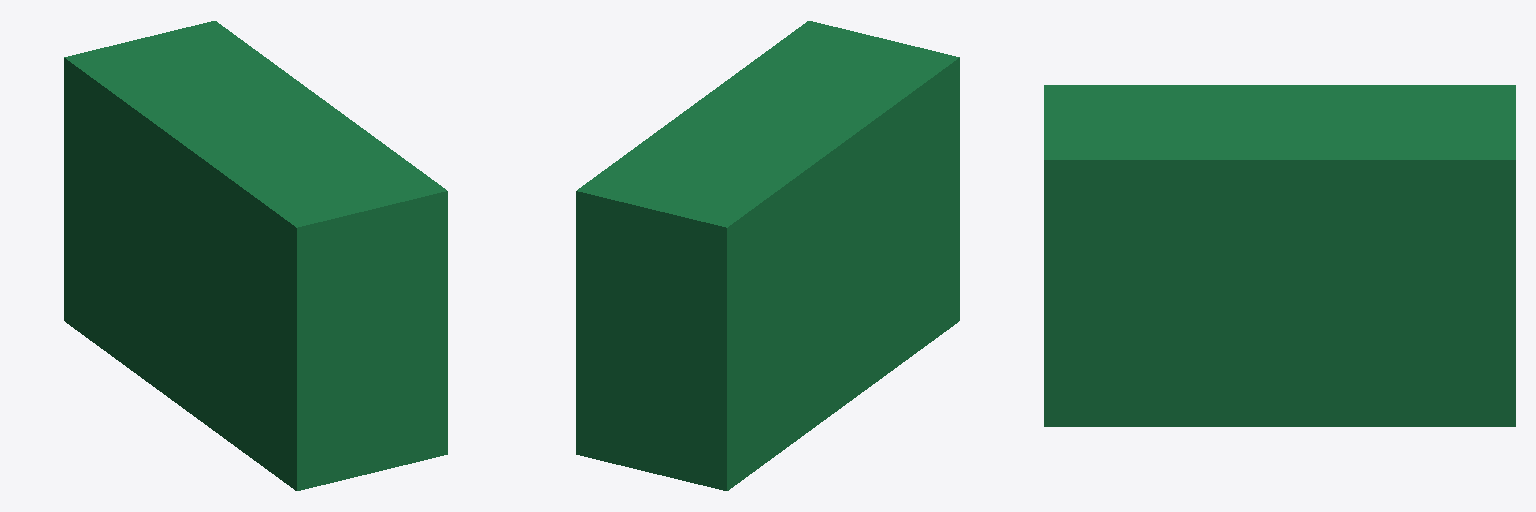
robot.urdf — myfirst:
<?xml version="1.0"?>
 <robot name="myfirst">
   <material name="light_green">
     <color rgba="0 1 0.498 1"/>
   </material>
   <material name="sea_green">
     <color rgba="0.18039 0.545098 0.341176 1"/>
   </material>
   <link name="right_leg">
     <visual>
       <geometry>
         <box size="0.16 0.10 0.06"/>
       </geometry>
       <material name="sea_green"/>
       <origin xyz="0 0 0.1067185" rpy="1.5707963 0 1.5707963"/>
     </visual>
     <inertial>
       <mass value="0"/>
       <inertia ixx="1.0" ixy="0.0" ixz="0.0" iyy="1.0" iyz="0.0" izz="1.0"/>
     </inertial>
   </link>
 </robot>

--- Render facts (derived) ---
Views: 3 orthographic renders of the robot side by side, from view 1: azimuth 30°, elevation 25°; view 2: azimuth 150°, elevation 25°; view 3: azimuth 270°, elevation 25°.
Robot: myfirst — 1 links, 0 joints (none); root link right_leg; default pose: every joint at zero.
Links seen in each view (by area): view 1: right_leg; view 2: right_leg; view 3: right_leg.
Link boxes in pixels (x1=…): right_leg: x1=64, y1=21, x2=447, y2=490; right_leg: x1=576, y1=21, x2=959, y2=490; right_leg: x1=1044, y1=85, x2=1515, y2=426.
Bounding box of the posed robot: 0.06 × 0.16 × 0.1 m (x, y, z).
Geometry: primitives only (box / cylinder / sphere), no mesh files.
